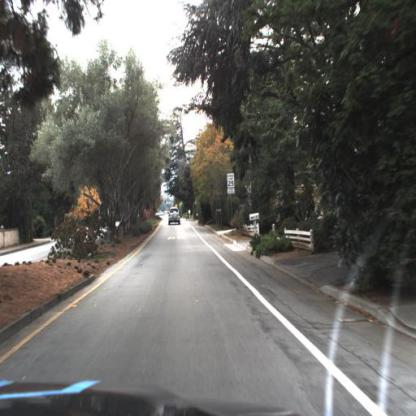car: (166, 205, 184, 229)
